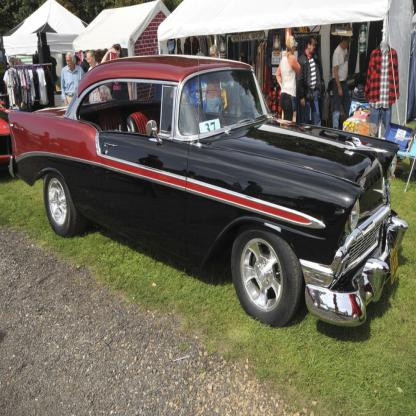Car: (8, 55, 409, 329), (0, 100, 8, 174)
